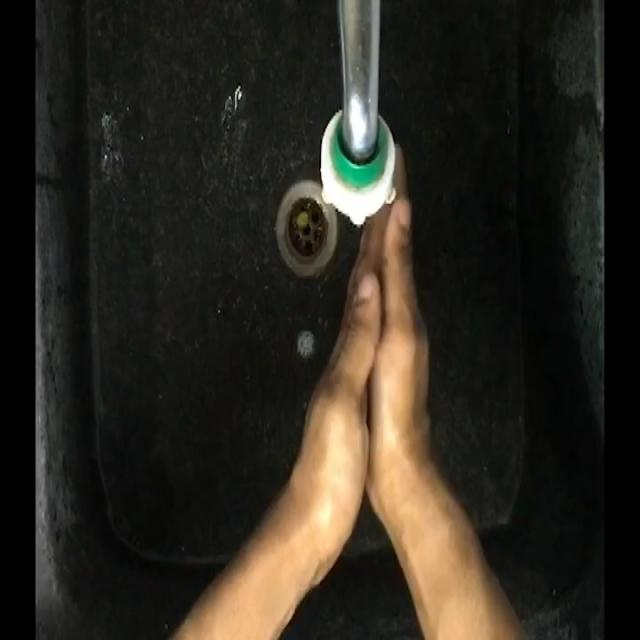step_1: (289, 125, 440, 533)
